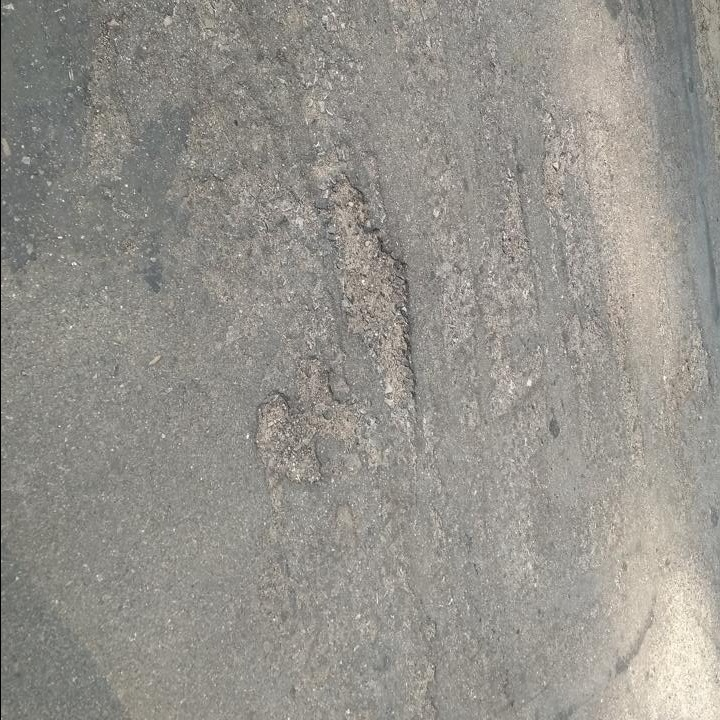pothole: (325, 171, 421, 428), (252, 386, 325, 487)
